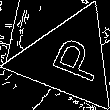P_NW: (35, 32, 102, 86)
